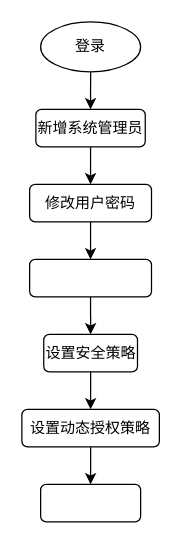
The diagram is 181 pixels wide and 544 high, and some of its shapes have lost their labels. Each missing label, with the centre of its shape:
"修改用户权限" goes at point 90,277.
"查看日志" goes at point 90,502.
